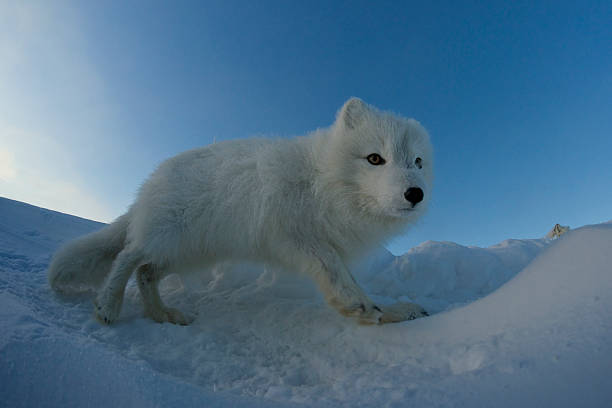arcticfox: (328, 116, 431, 242)
